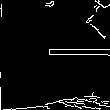L_W: (3, 39, 107, 71)
